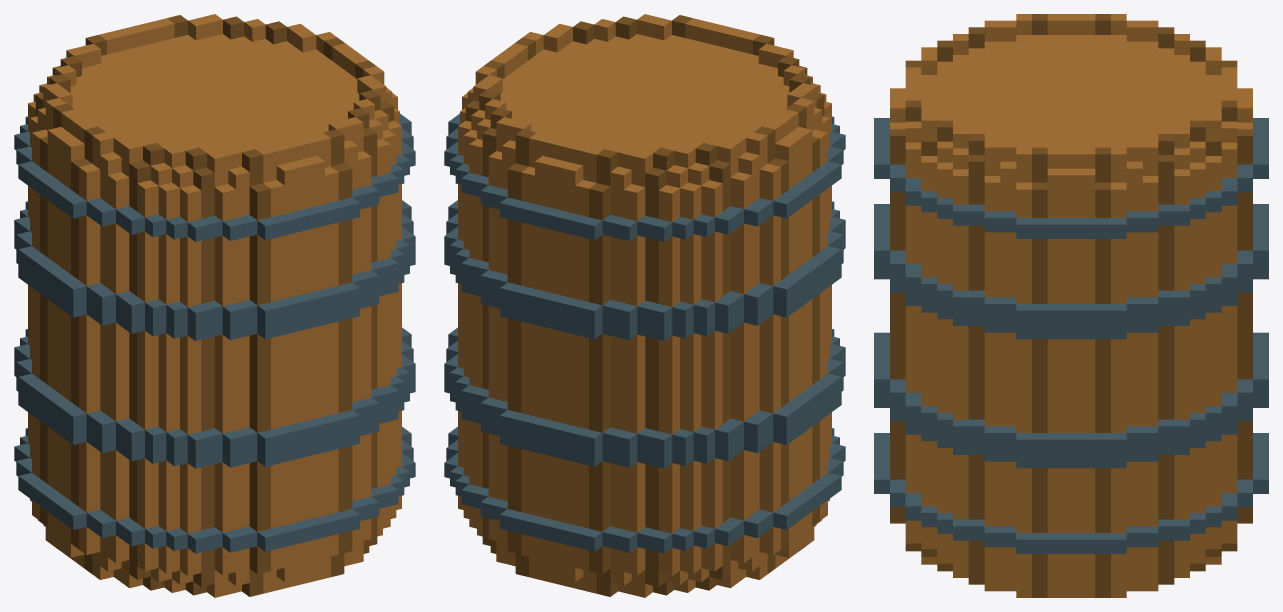
Rendered from tonneau.obj.
3 renders of one model, left to right at view 1: azimuth 30°, elevation 25°; view 2: azimuth 150°, elevation 25°; view 3: azimuth 270°, elevation 25°, orthographic.
Bounding box in the file's own units: 2.5 × 3.1 × 2.5.
Materials: 1 (1 with a texture image).
